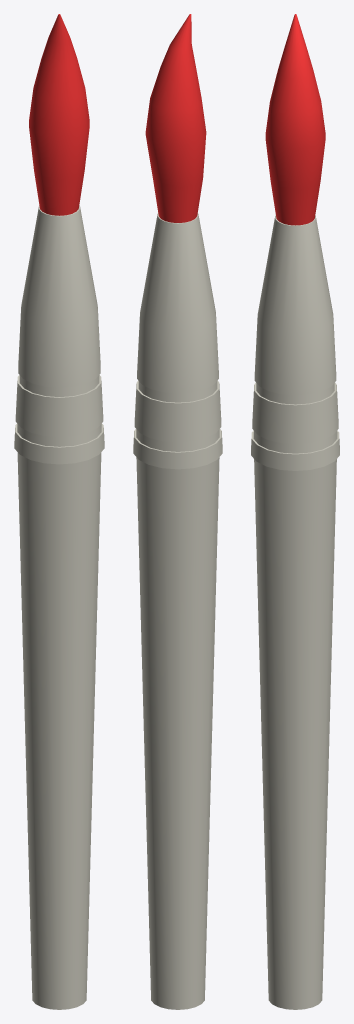
The model's file is Penzlyk.fbx.
3 renders of one model, left to right at view 1: azimuth 90°, elevation 25°; view 2: azimuth 210°, elevation 25°; view 3: azimuth 270°, elevation 25°, orthographic.
Parts seen in each view (by area): view 1: Penzlyk; view 2: Penzlyk; view 3: Penzlyk.
Part boxes in pixels (x1=…): Penzlyk: x1=14, y1=14, x2=104, y2=1009; Penzlyk: x1=133, y1=14, x2=222, y2=1009; Penzlyk: x1=251, y1=14, x2=339, y2=1009.
Bounding box in the file's own units: 0.3657 × 4.37 × 0.3601.
